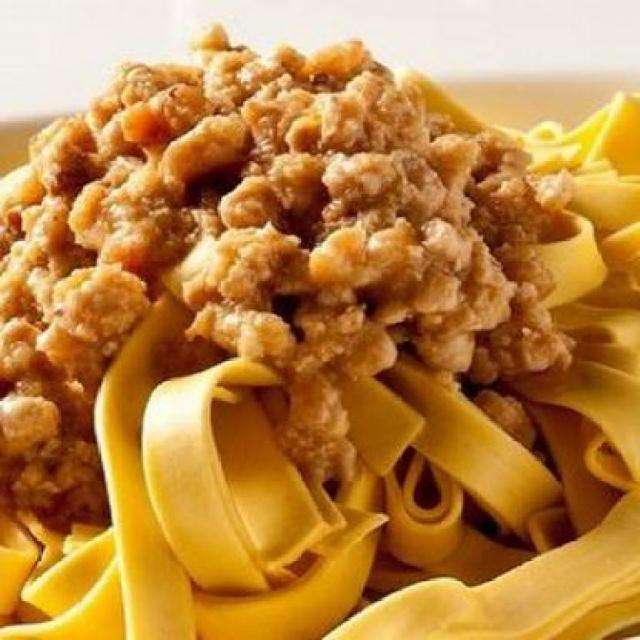Pasta al ragu: (22, 12, 624, 620)
